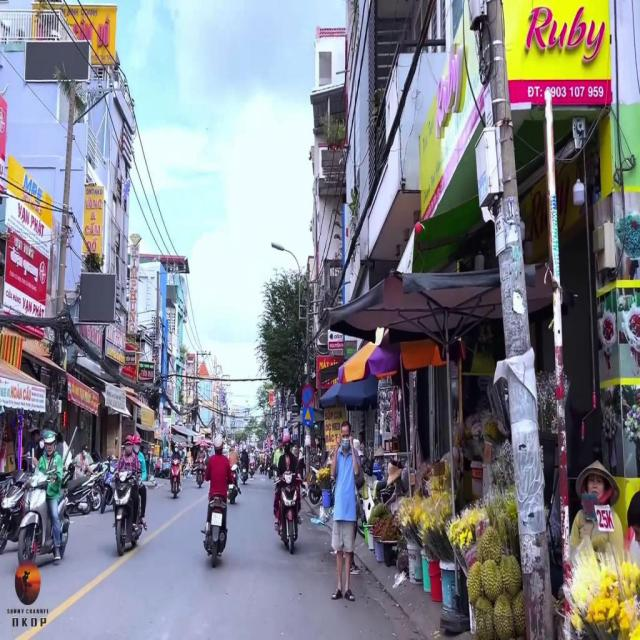cam_do_xe: (302, 384, 314, 407)
cho: (303, 406, 313, 424)
